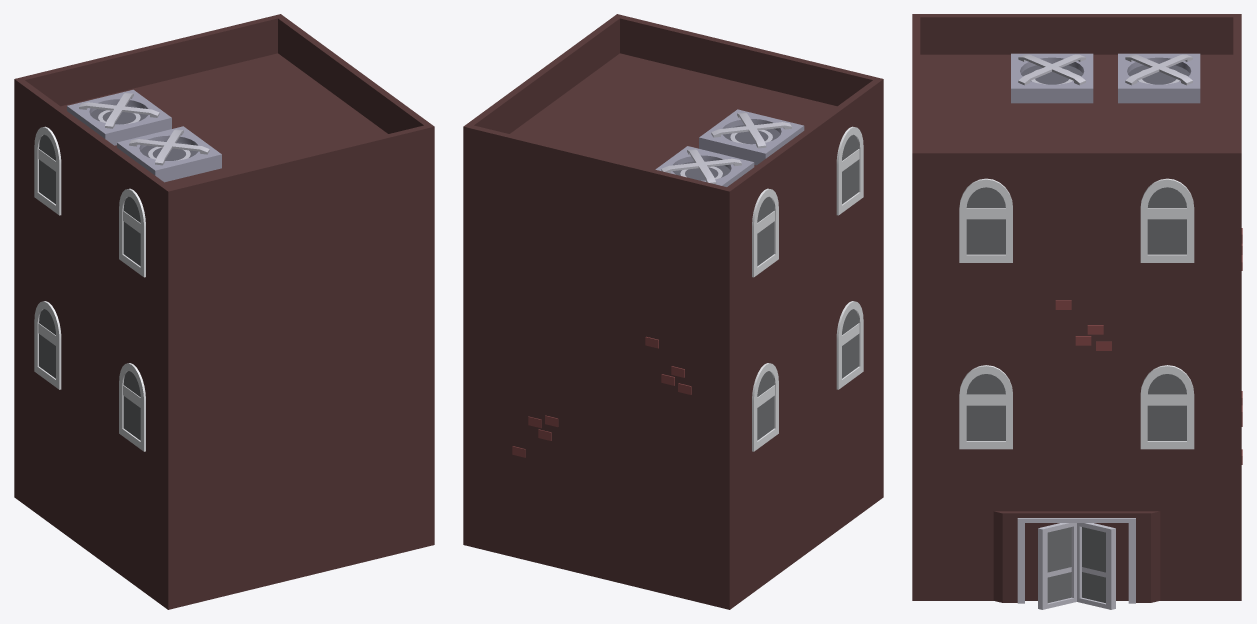
File: building 5.fbx
3 views of the same model, side by side, from view 1: azimuth 30°, elevation 25°; view 2: azimuth 150°, elevation 25°; view 3: azimuth 270°, elevation 25° (orthographic). The views are drawn at different scales.
Parts seen in each view (by area): view 1: block_53, block_half_96, block_half_98, block_half_97, block_half_95, detail_airHuge_124, detail_airHuge_112, window_rounded_121, window_rounded_122, window_rounded_123, window_rounded_120; view 2: block_53, block_half_98, block_half_96, block_half_97, block_half_95, detail_airHuge_124, detail_airHuge_112, window_rounded_120, window_rounded_123, window_rounded_122, window_rounded_121; view 3: block_53, wall_doorRevolving_113, block_half_95, block_half_97, window_rounded_116, window_rounded_117, window_rounded_115, detail_airHuge_112, detail_airHuge_124, window_rounded_118, block_half_96, block_half_98 (+1 smaller).
Part boxes in pixels (left/top/right/bottom): block_53: left=14, top=53, right=434, bottom=609; block_half_96: left=164, top=124, right=434, bottom=225; block_half_98: left=14, top=14, right=283, bottom=113; block_half_97: left=14, top=77, right=174, bottom=226; block_half_95: left=274, top=14, right=434, bottom=162; detail_airHuge_124: left=117, top=126, right=221, bottom=182; detail_airHuge_112: left=67, top=89, right=171, bottom=145; window_rounded_121: left=34, top=126, right=61, bottom=215; window_rounded_122: left=34, top=301, right=61, bottom=389; window_rounded_123: left=119, top=363, right=145, bottom=451; window_rounded_120: left=119, top=188, right=145, bottom=277; block_53: left=463, top=53, right=883, bottom=609; block_half_98: left=463, top=125, right=733, bottom=224; block_half_96: left=613, top=14, right=883, bottom=113; block_half_97: left=723, top=77, right=883, bottom=226; block_half_95: left=463, top=14, right=623, bottom=162; detail_airHuge_124: left=699, top=109, right=804, bottom=165; detail_airHuge_112: left=655, top=146, right=754, bottom=186; window_rounded_120: left=836, top=126, right=863, bottom=215; window_rounded_123: left=836, top=301, right=863, bottom=389; window_rounded_122: left=752, top=363, right=778, bottom=451; window_rounded_121: left=752, top=188, right=778, bottom=277; block_53: left=912, top=54, right=1241, bottom=600; wall_doorRevolving_113: left=993, top=511, right=1160, bottom=609; block_half_95: left=912, top=149, right=1241, bottom=190; block_half_97: left=913, top=14, right=1241, bottom=54; window_rounded_116: left=1140, top=365, right=1194, bottom=449; window_rounded_117: left=1140, top=178, right=1194, bottom=262; window_rounded_115: left=959, top=365, right=1012, bottom=449; detail_airHuge_112: left=1118, top=53, right=1200, bottom=103; detail_airHuge_124: left=1011, top=53, right=1093, bottom=103; window_rounded_118: left=959, top=178, right=1012, bottom=262; block_half_96: left=912, top=14, right=920, bottom=190; block_half_98: left=1233, top=14, right=1241, bottom=190.
Size of the model in its own units: 42.93 by 60 by 40.15.
